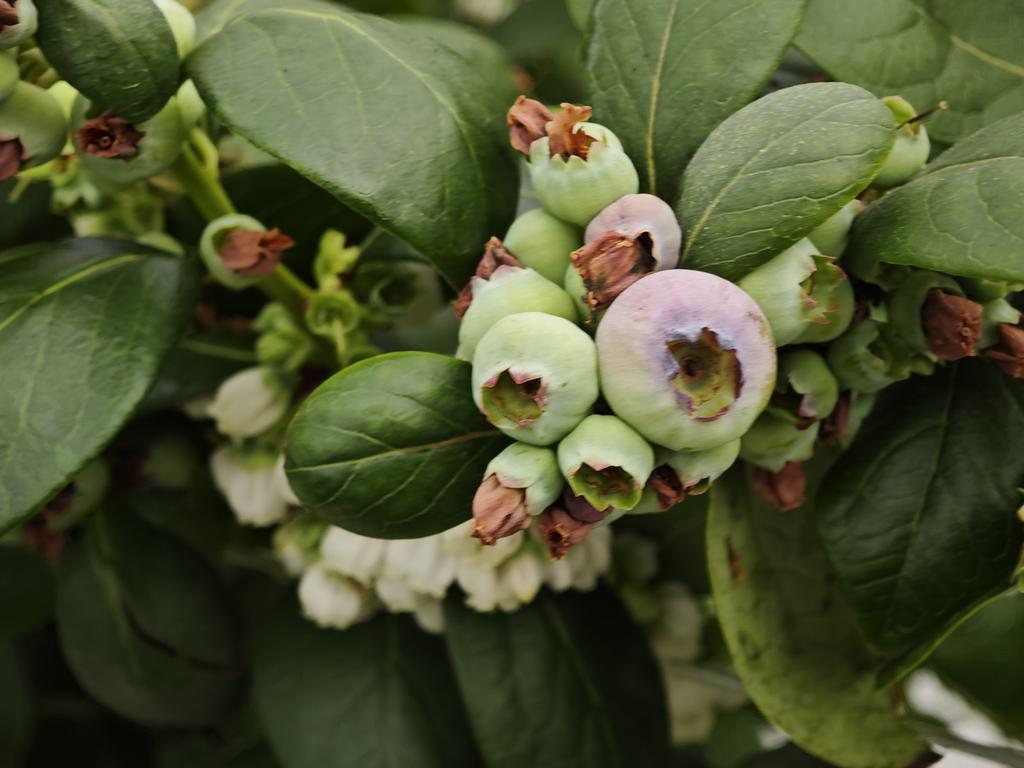UnripeBlueBerry: (597, 266, 779, 451), (470, 310, 597, 442)
